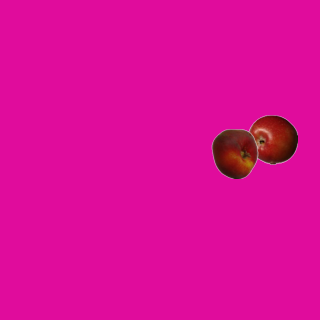Apple Braeburn: (247, 114, 297, 164)
Nectarine Flat: (209, 128, 259, 178)
